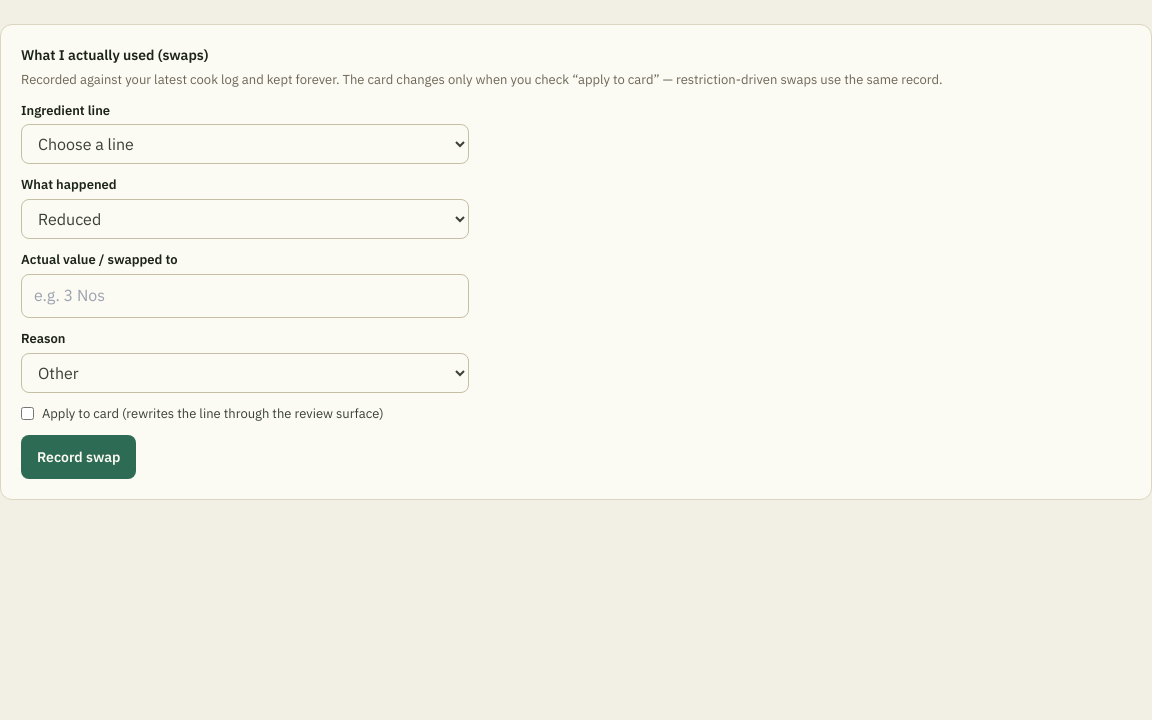
Test: SwapSection (D-26 F3/H5) › a rejected record surfaces the honest error
Expected: the dropdown labelled "Ingredient line" is shown, left=21, top=124, right=469, bottom=164
Click the button "Record swap" at (79, 457), box left=21, top=435, right=136, bottom=479
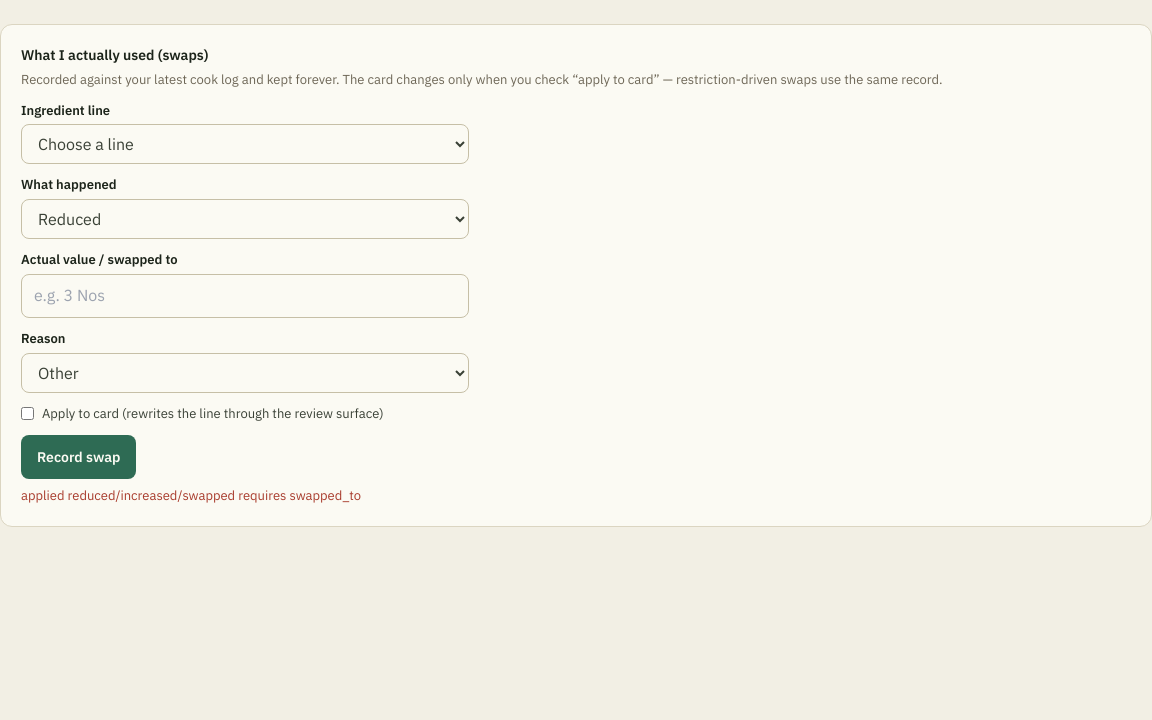
Result: the text "applied reduced/increased/swapped requires swapped_to" is shown at left=21, top=487, right=361, bottom=504
